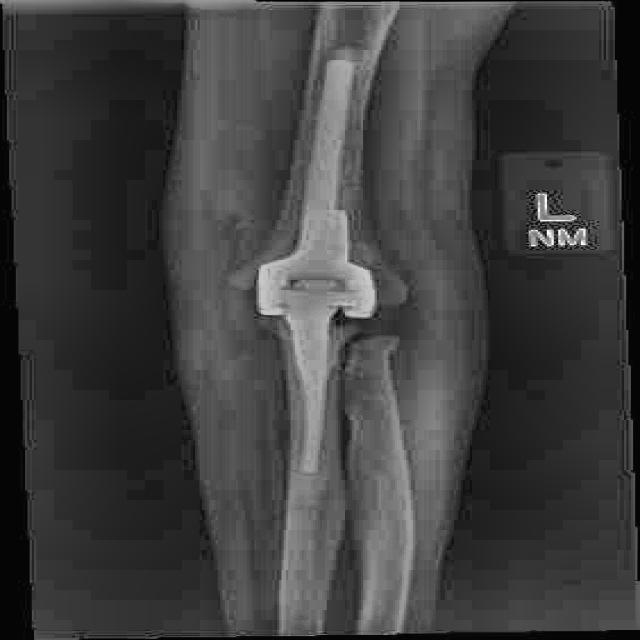elbow positive: (203, 249, 401, 357)
